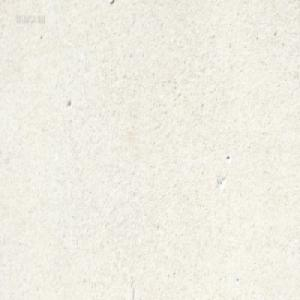Wrench: (108, 0, 114, 4)
